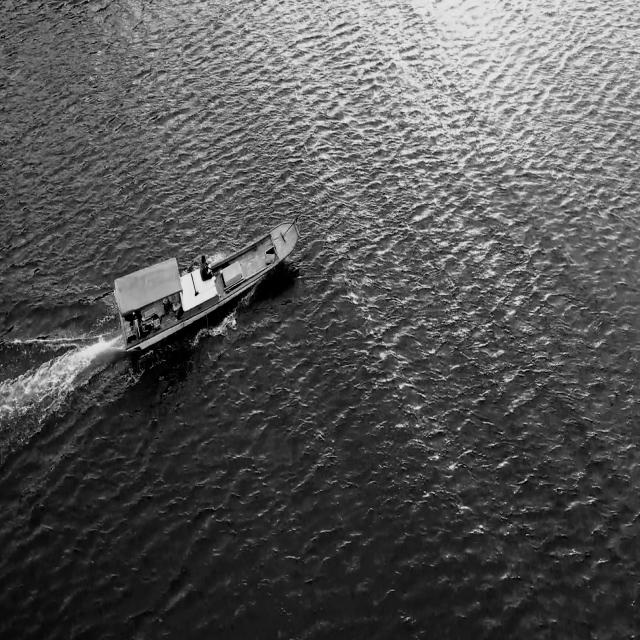ship: (111, 209, 305, 359)
